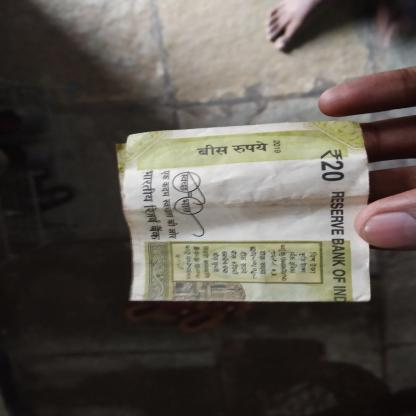New20Back: (120, 132, 361, 300)
